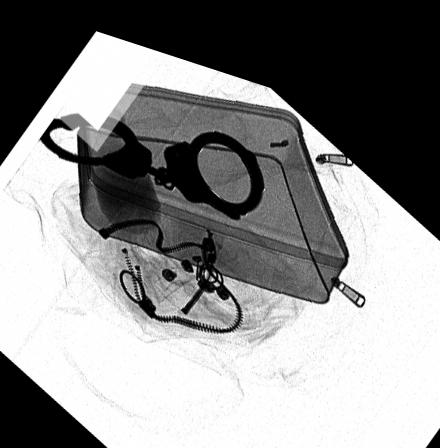HandCuffs: (39, 107, 265, 205)
